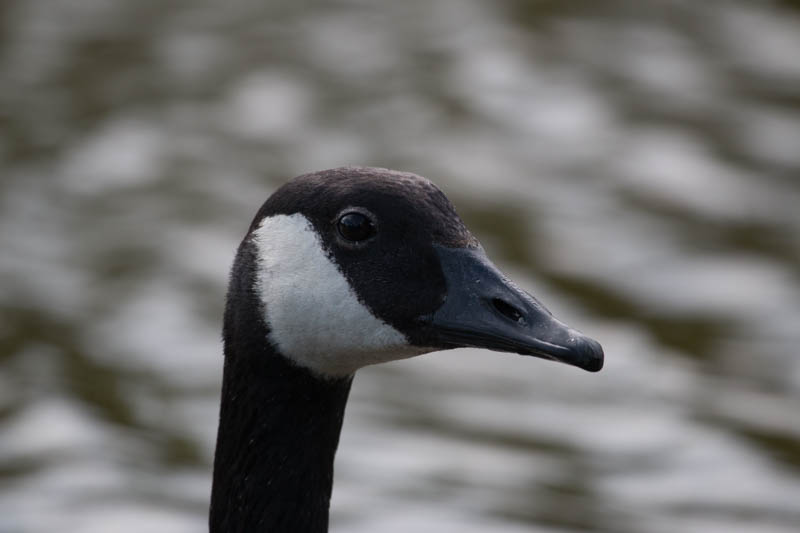goose-head: (222, 166, 604, 382)
